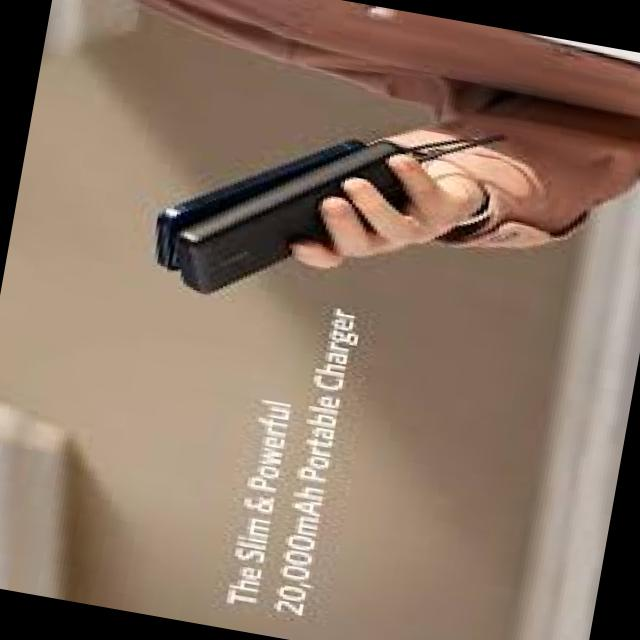portable-charger: (165, 109, 433, 331)
